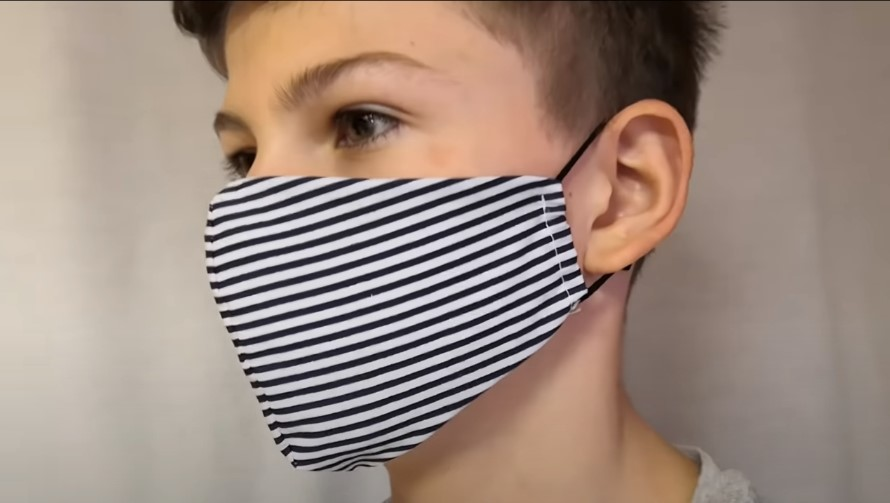face_with_mask: (199, 5, 692, 475)
